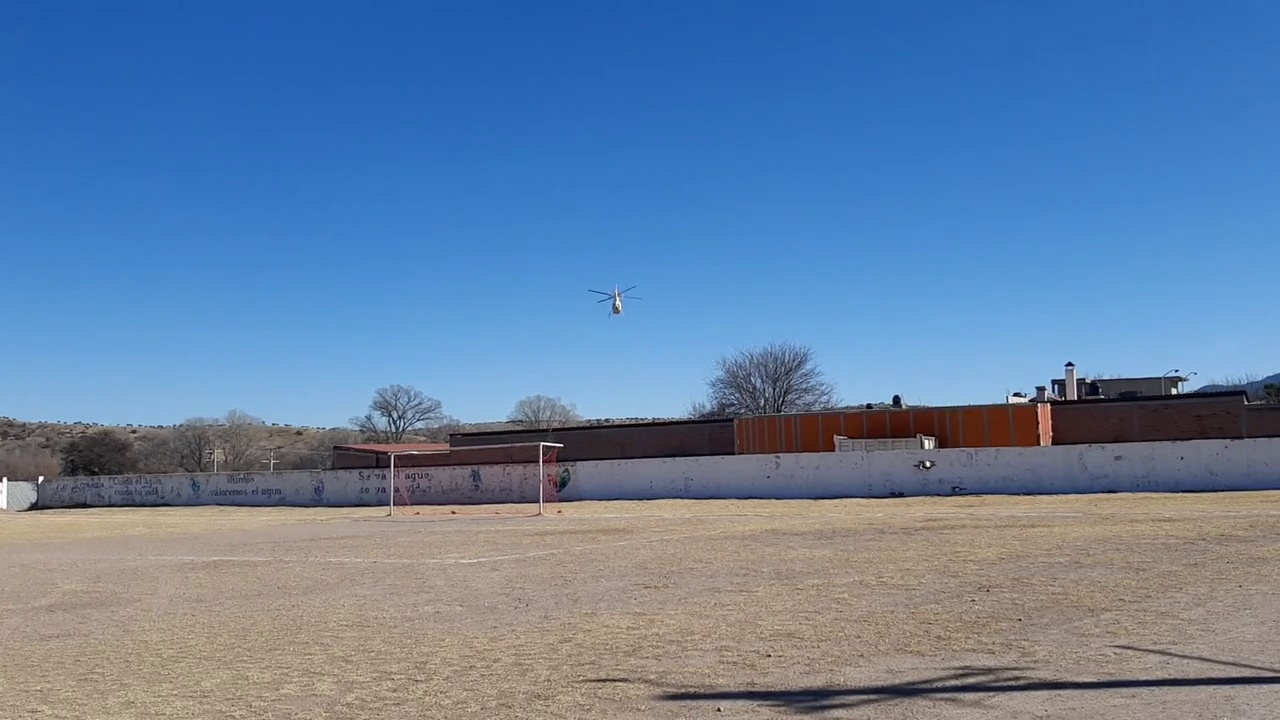heli: (589, 283, 644, 317)
